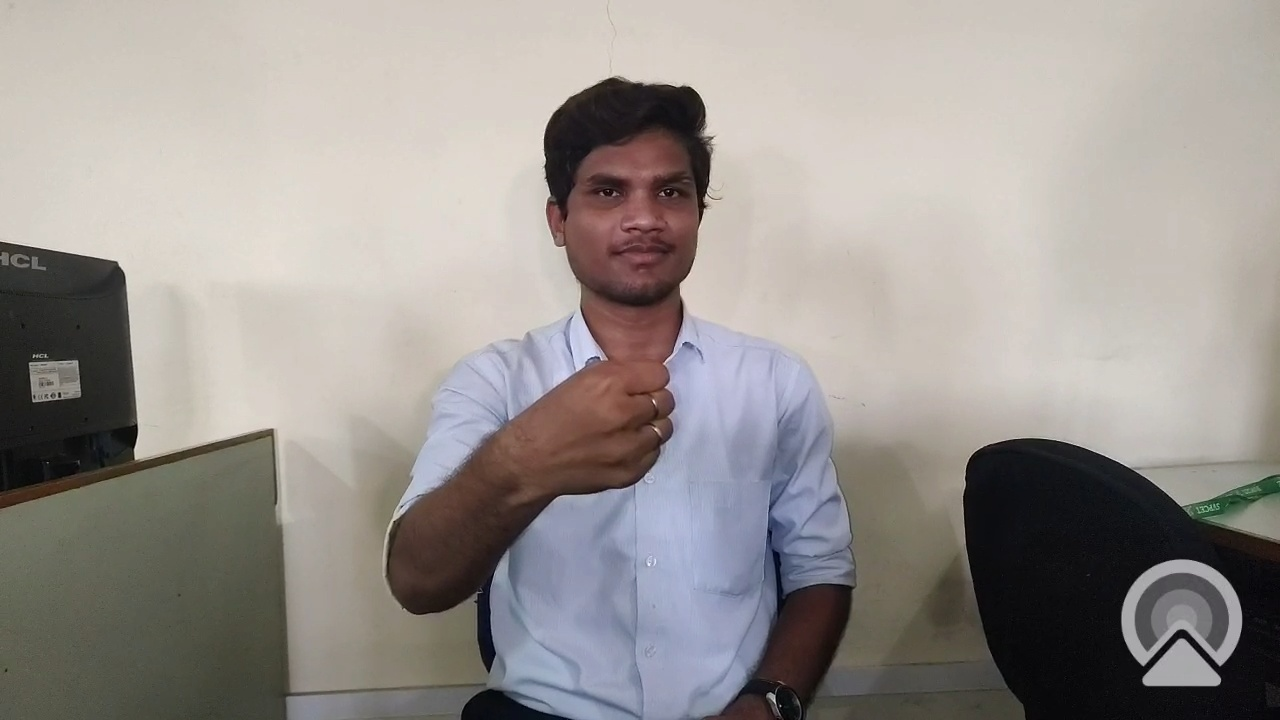Yes: (464, 319, 693, 544)
